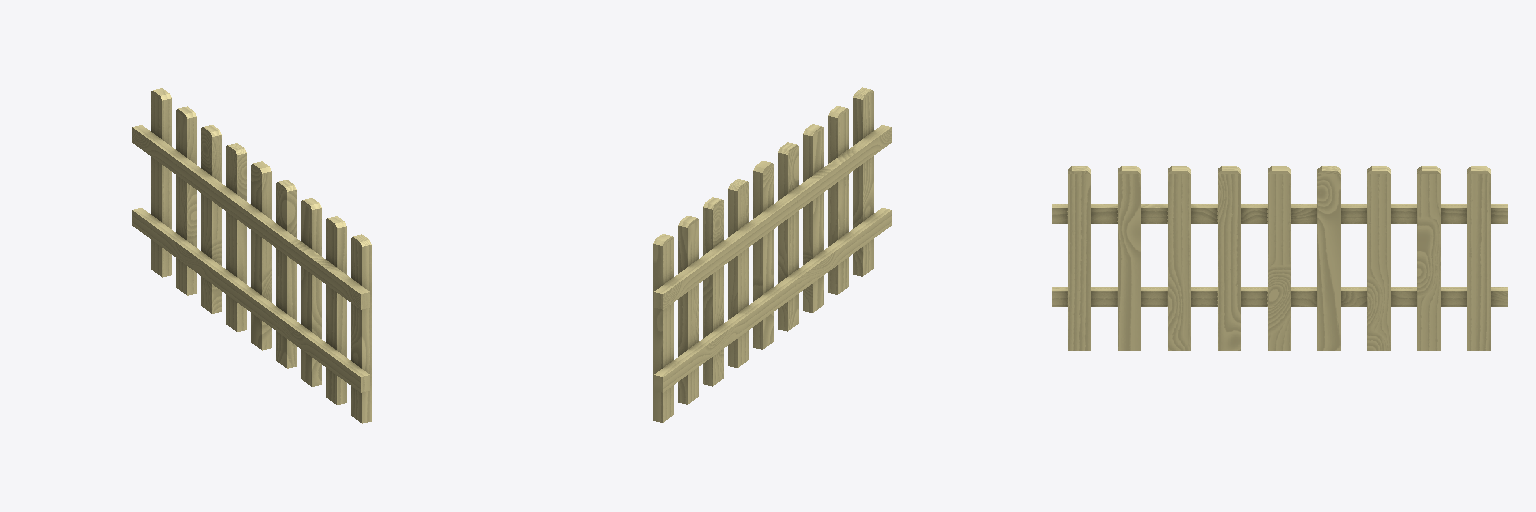
The picture shows the model from 3 angles: view 1: azimuth 30°, elevation 25°; view 2: azimuth 150°, elevation 25°; view 3: azimuth 270°, elevation 25°; orthographic projection.
Visible parts, largest first — view 1: PicketFence_mesh; view 2: PicketFence_mesh; view 3: PicketFence_mesh.
Boxes of the visible parts, x1=… form: PicketFence_mesh: x1=132, y1=88, x2=371, y2=423; PicketFence_mesh: x1=653, y1=87, x2=891, y2=422; PicketFence_mesh: x1=1052, y1=166, x2=1507, y2=350.
Bounding box in the file's own units: 0.9501 × 8.57 × 19.69.
Materials: 1 (1 with a texture image).